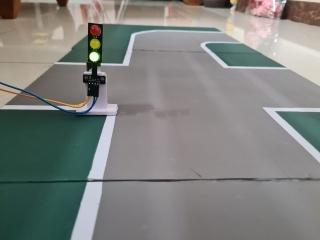green: (81, 12, 106, 76)
